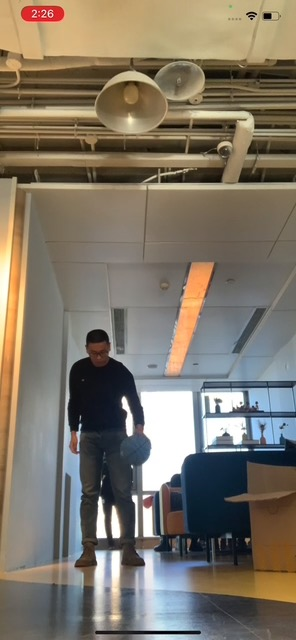ball: (119, 433, 150, 466)
